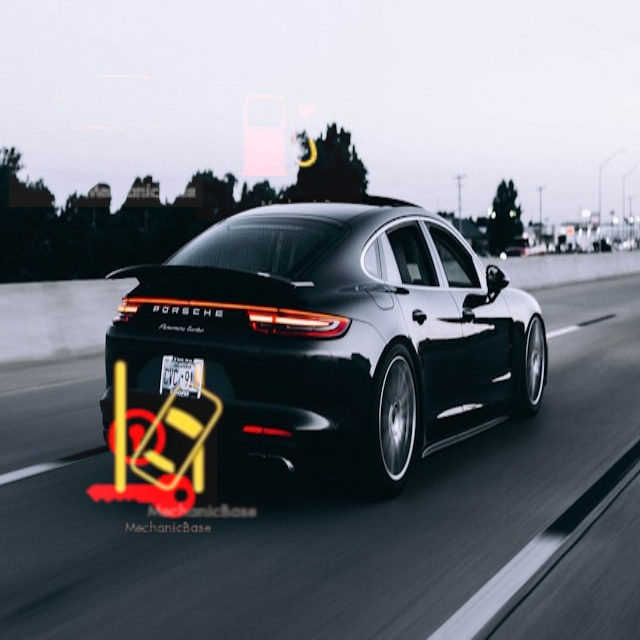symbol: (9, 13, 203, 207), (72, 335, 264, 527), (195, 53, 362, 220), (65, 388, 217, 540)
